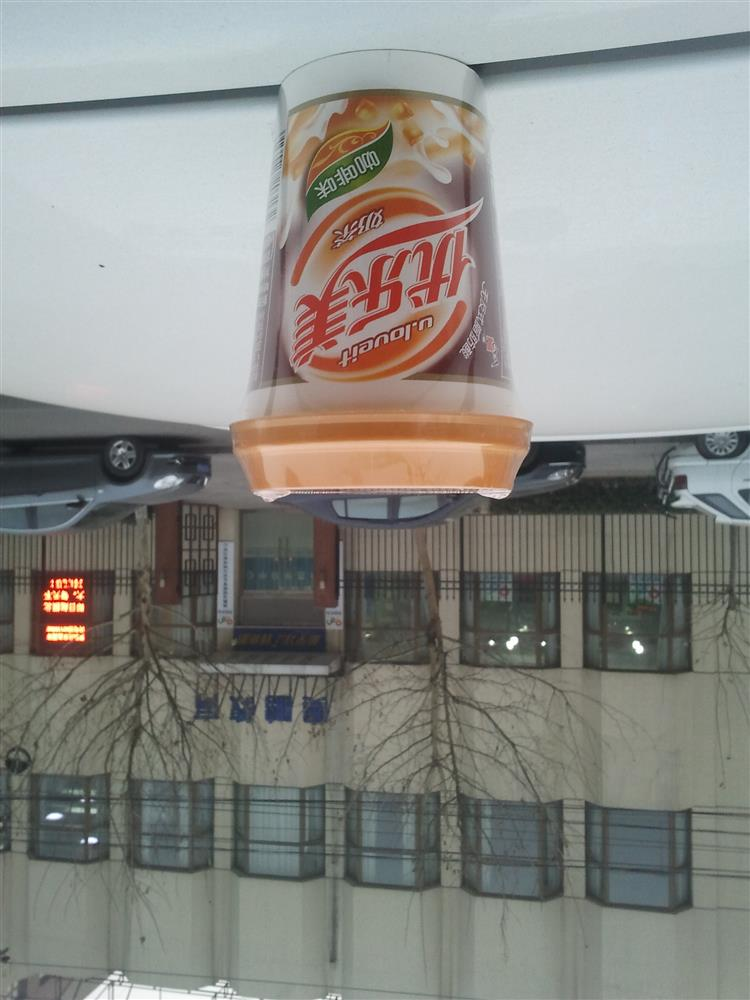u_loveit: (226, 45, 536, 495)
